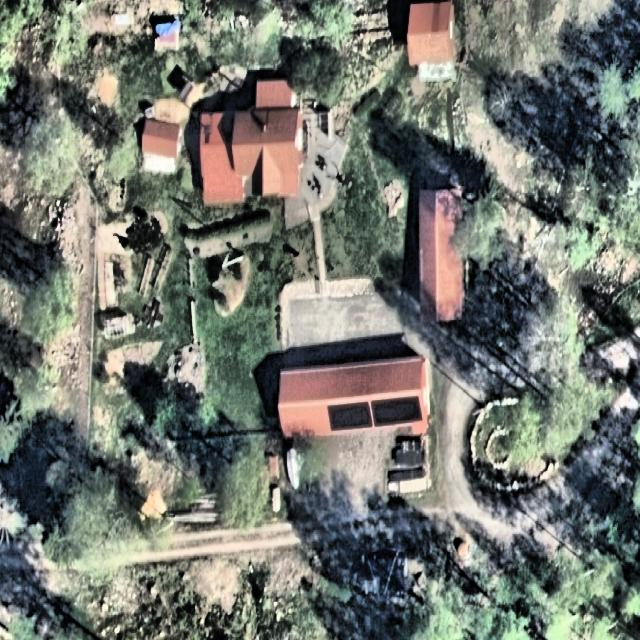roof_pv: (369, 391, 429, 431), (322, 398, 374, 435)
